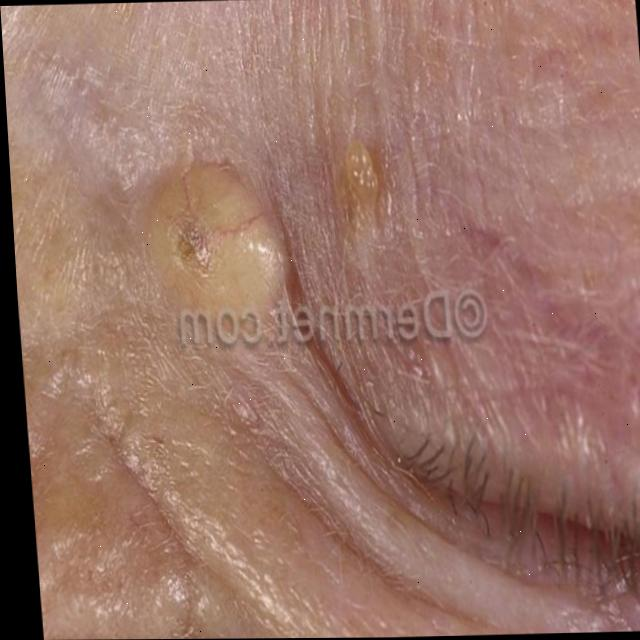Eczema: (145, 179, 285, 308)
